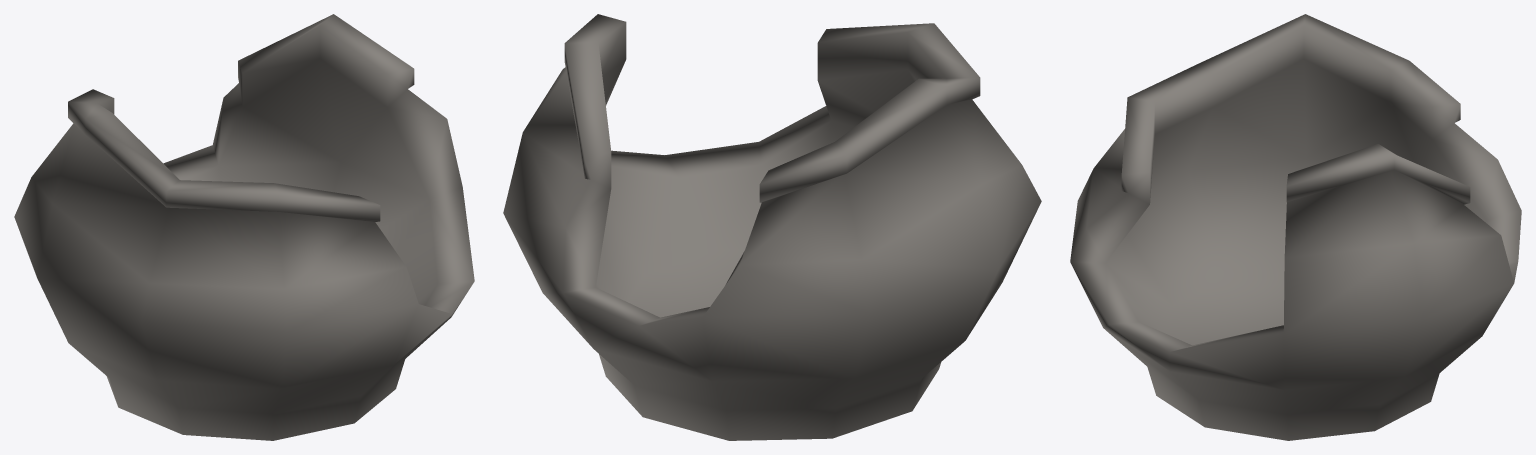
The model's file is rpgpp_av_pot_01b.gltf.
The picture shows the model from 3 angles, left to right: view 1: azimuth 30°, elevation 25°; view 2: azimuth 150°, elevation 25°; view 3: azimuth 270°, elevation 25°; orthographic projection. The views are drawn at different scales.
Parts seen in each view (by area): view 1: rpgpp_av_pot_01b; view 2: rpgpp_av_pot_01b; view 3: rpgpp_av_pot_01b.
Part boxes in pixels (x1=…): rpgpp_av_pot_01b: x1=14, y1=14, x2=474, y2=440; rpgpp_av_pot_01b: x1=503, y1=14, x2=1041, y2=440; rpgpp_av_pot_01b: x1=1070, y1=14, x2=1521, y2=440.
Bounding box in the file's own units: 0.00578 × 0.00396 × 0.00559.
Materials: 1 (1 with a texture image).
